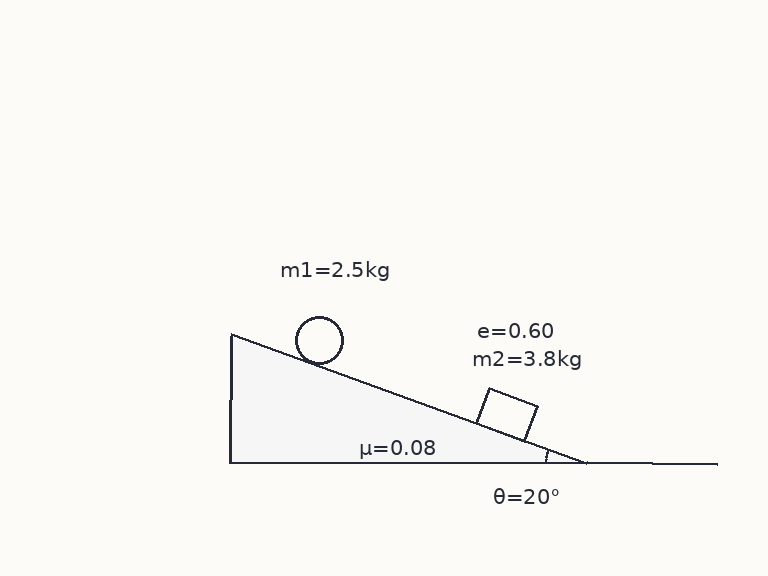ball: (293, 314, 345, 366)
block: (474, 386, 539, 442)
ramp: (229, 332, 588, 465)
